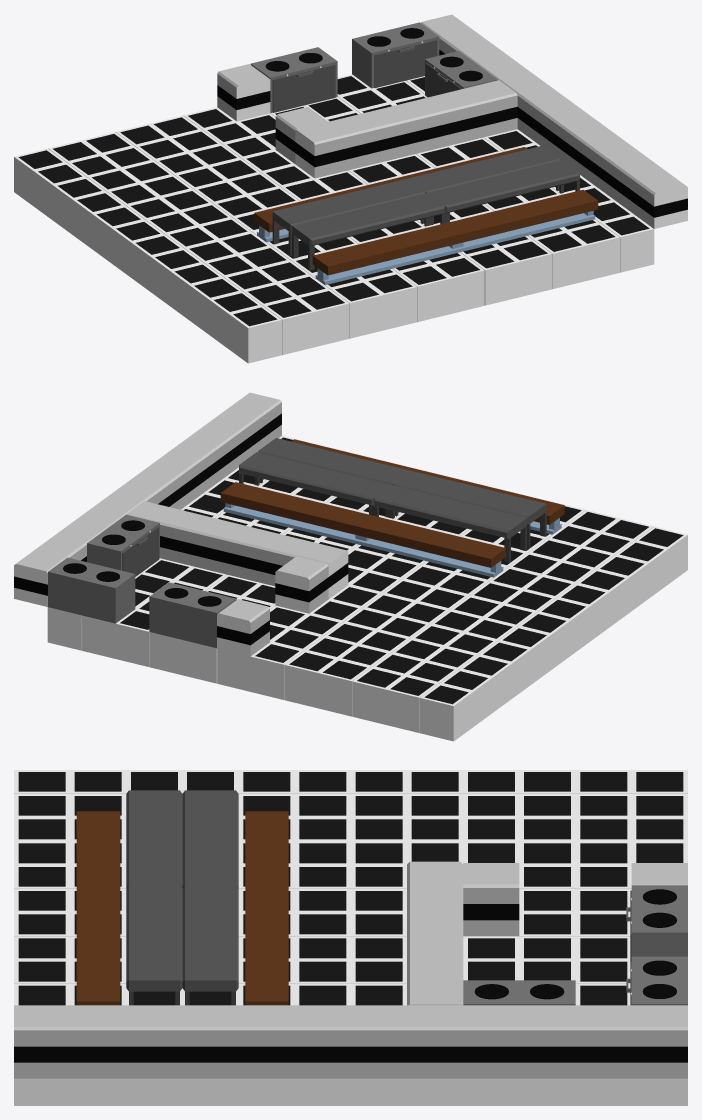
Rendered from kitchenLarge.fbx.
The picture shows the model from 3 angles, top to bottom: view 1: azimuth 30°, elevation 25°; view 2: azimuth 150°, elevation 25°; view 3: azimuth 270°, elevation 25°; orthographic projection. The views are drawn at different scales.
Parts seen in each view (by area): view 1: Cube.197, Cube.192, Cube.190, Cube.199, Cube.193, Cube.200, Cube.198, Cube.191, Cube.144, Cube.189, Cube.183, Cube.174 (+92 smaller); view 2: Cube.196, Cube.195, Cube.190, Cube.198, Cube.193, Cube.191, Cube.194, Cube.199, Cube.200, Cube.024, Cube.185, Cube.183 (+87 smaller); view 3: Cube.191, Cube.200, Cube.199, Cube.198, Cube.192, Cube.195, Cube.197, Cube.193, Cube.196, Cube.175, Cube.176, Cube.177 (+102 smaller).
Boxes of the visible parts, x1,y1,x2,y2 form: Cube.197: (312, 222, 462, 284); Cube.192: (448, 190, 598, 252); Cube.190: (352, 22, 439, 88); Cube.199: (292, 193, 444, 270); Cube.193: (250, 47, 337, 112); Cube.200: (427, 160, 579, 225); Cube.198: (272, 178, 425, 256); Cube.191: (408, 145, 560, 193); Cube.144: (228, 305, 281, 363); Cube.189: (295, 121, 348, 178); Cube.183: (217, 64, 270, 121); Cube.174: (634, 171, 687, 228); Cube.196: (356, 515, 505, 577); Cube.195: (220, 482, 370, 544); Cube.190: (48, 557, 135, 623); Cube.198: (374, 485, 526, 562); Cube.193: (149, 582, 236, 648); Cube.191: (239, 452, 391, 517); Cube.194: (87, 514, 159, 576); Cube.199: (393, 471, 546, 548); Cube.200: (258, 438, 410, 485); Cube.024: (420, 683, 473, 741); Cube.185: (275, 556, 328, 613); Cube.183: (217, 599, 269, 656); Cube.191: (182, 885, 238, 1005); Cube.200: (126, 885, 182, 1005); Cube.199: (126, 790, 182, 888); Cube.198: (182, 790, 238, 888); Cube.192: (76, 906, 120, 1005); Cube.195: (245, 906, 288, 1005); Cube.197: (76, 811, 120, 906); Cube.193: (626, 885, 687, 961); Cube.196: (245, 811, 288, 906); Cube.175: (70, 1005, 126, 1078); Cube.176: (182, 1005, 238, 1078); Cube.177: (126, 1005, 182, 1078).
Bounding box in the file's own units: 2602 × 403 × 2400.
